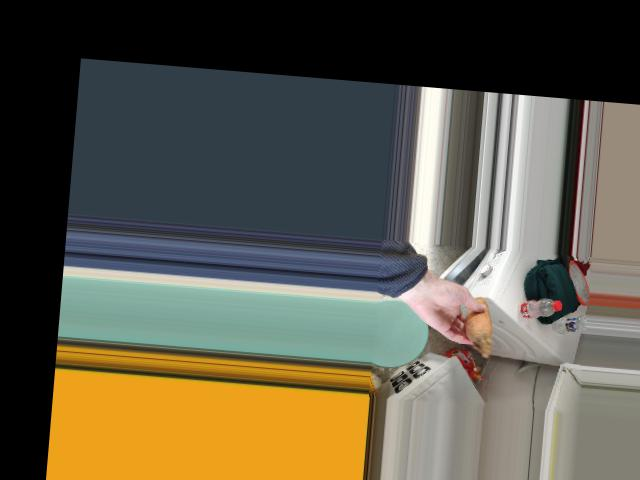sweet_potato: (465, 299, 495, 346)
